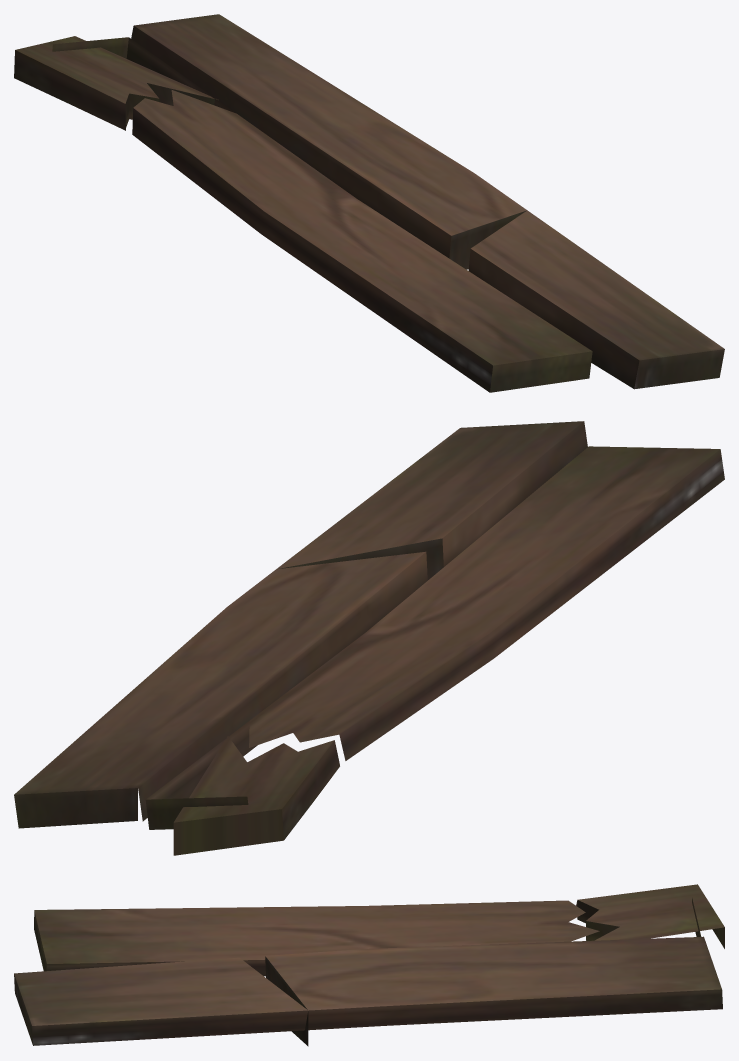
The model's file is MuQiao01.FBX.
3 renders of one model, top to bottom at view 1: azimuth 30°, elevation 25°; view 2: azimuth 150°, elevation 25°; view 3: azimuth 270°, elevation 25°, orthographic. The views are drawn at different scales.
Visible parts, largest first — view 1: Object30497; view 2: Object30497; view 3: Object30497.
Part boxes in pixels (x1,y1,x2,y2): Object30497: (14, 14, 724, 392); Object30497: (14, 421, 724, 855); Object30497: (14, 884, 724, 1046).
Size of the model in its own units: 60.78 by 17.74 by 175.
